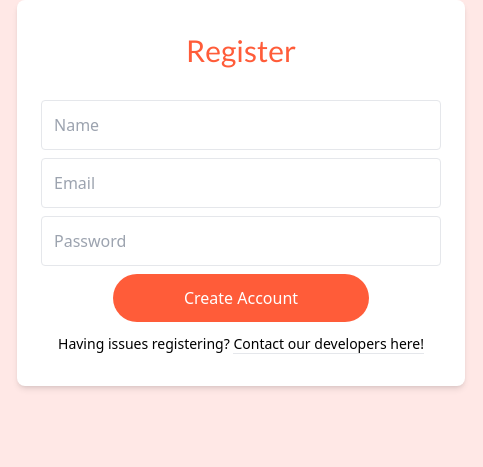
Test: register card functionality › should show error when no name, email and password on submit
Clear the field with test id "register-card-field-name" at (241, 125), box [41, 100, 441, 150]
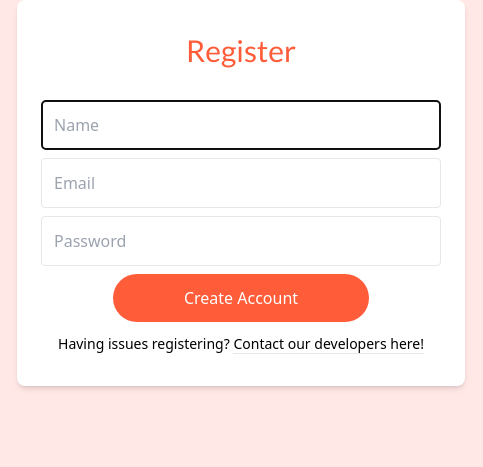
Clear the field with test id "register-card-field-email" at (241, 183), box [41, 158, 441, 208]
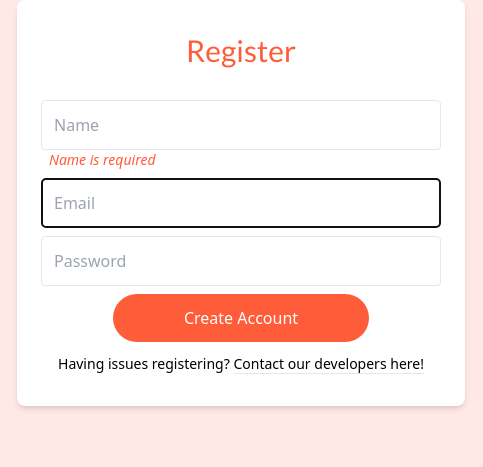
Clear the password field with test id "register-card-field-password" at (241, 261), box [41, 236, 441, 286]
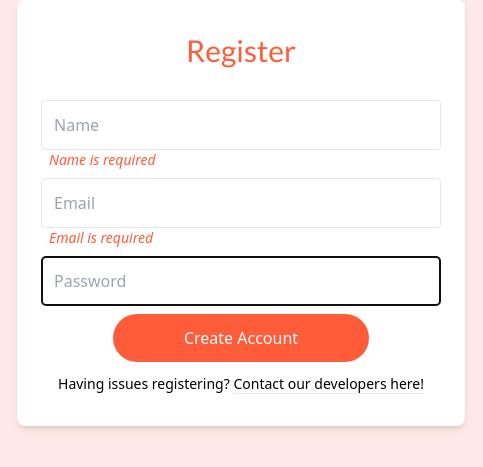
Click the button with test id "create-account-button" at (241, 338), box [113, 314, 369, 362]
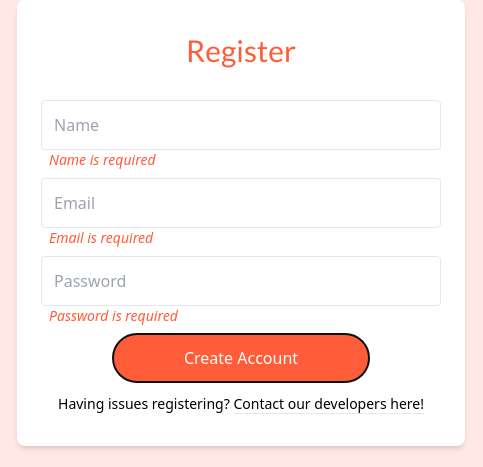
Expected: the text with test id "register-card-field-error-name" reads "Name is required", [49, 150, 156, 169]
Expected: the text with test id "register-card-field-error-email" reads "Email is required", [49, 228, 153, 247]
Expected: the text with test id "register-card-field-error-password" reads "Password is required", [49, 306, 178, 325]
